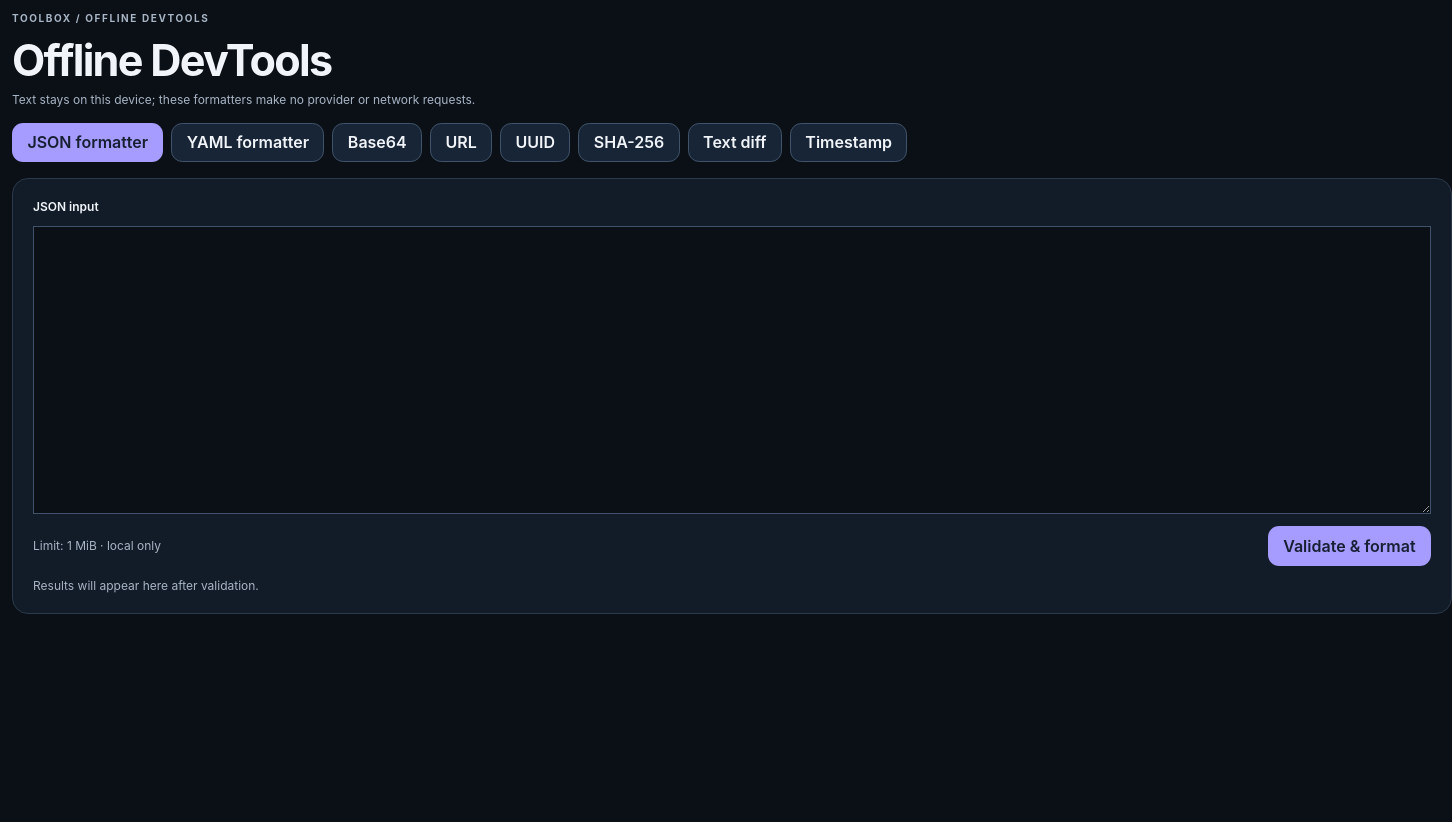
Scenario: M3-022 timestamp DevTools panel › shows a clear validation error for invalid input and supports ISO with an offset
Click the button "Timestamp": click(849, 142) [790,123,907,162]
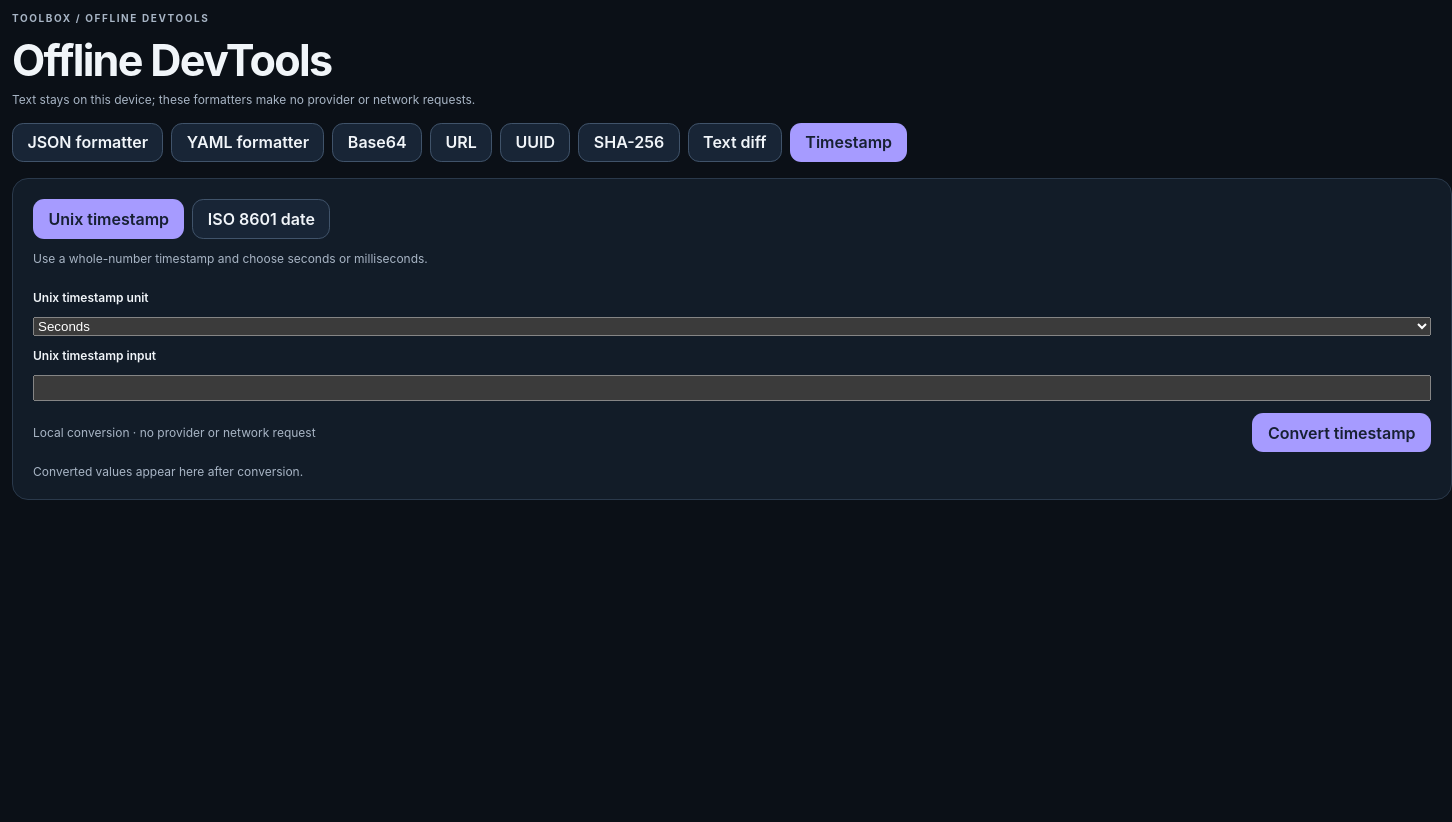
In the field labelled "Unix timestamp input": (732, 388) [33,375,1431,401], type "1.2"
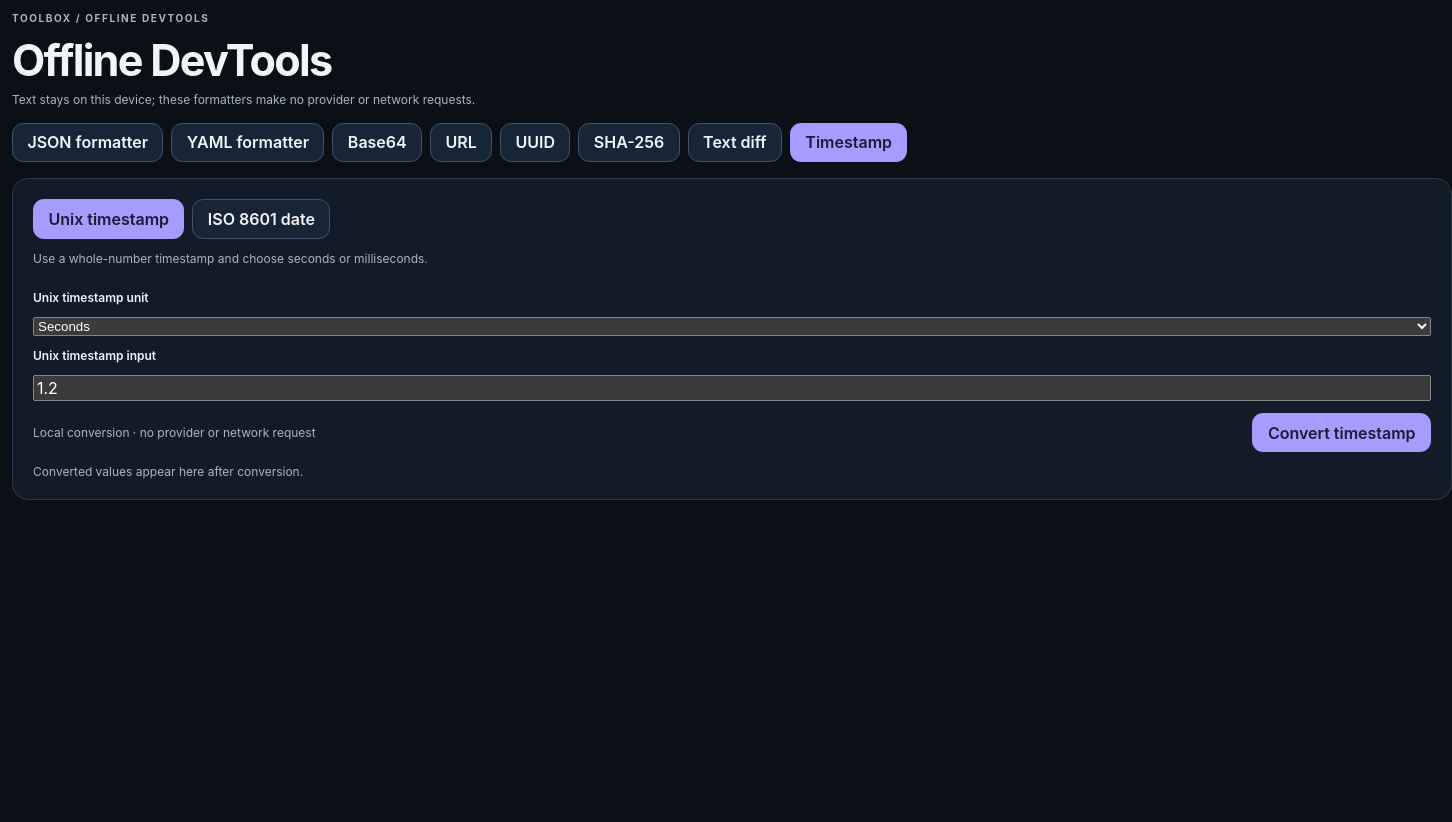
Click the button "Convert timestamp": click(1342, 433) [1252,413,1431,452]
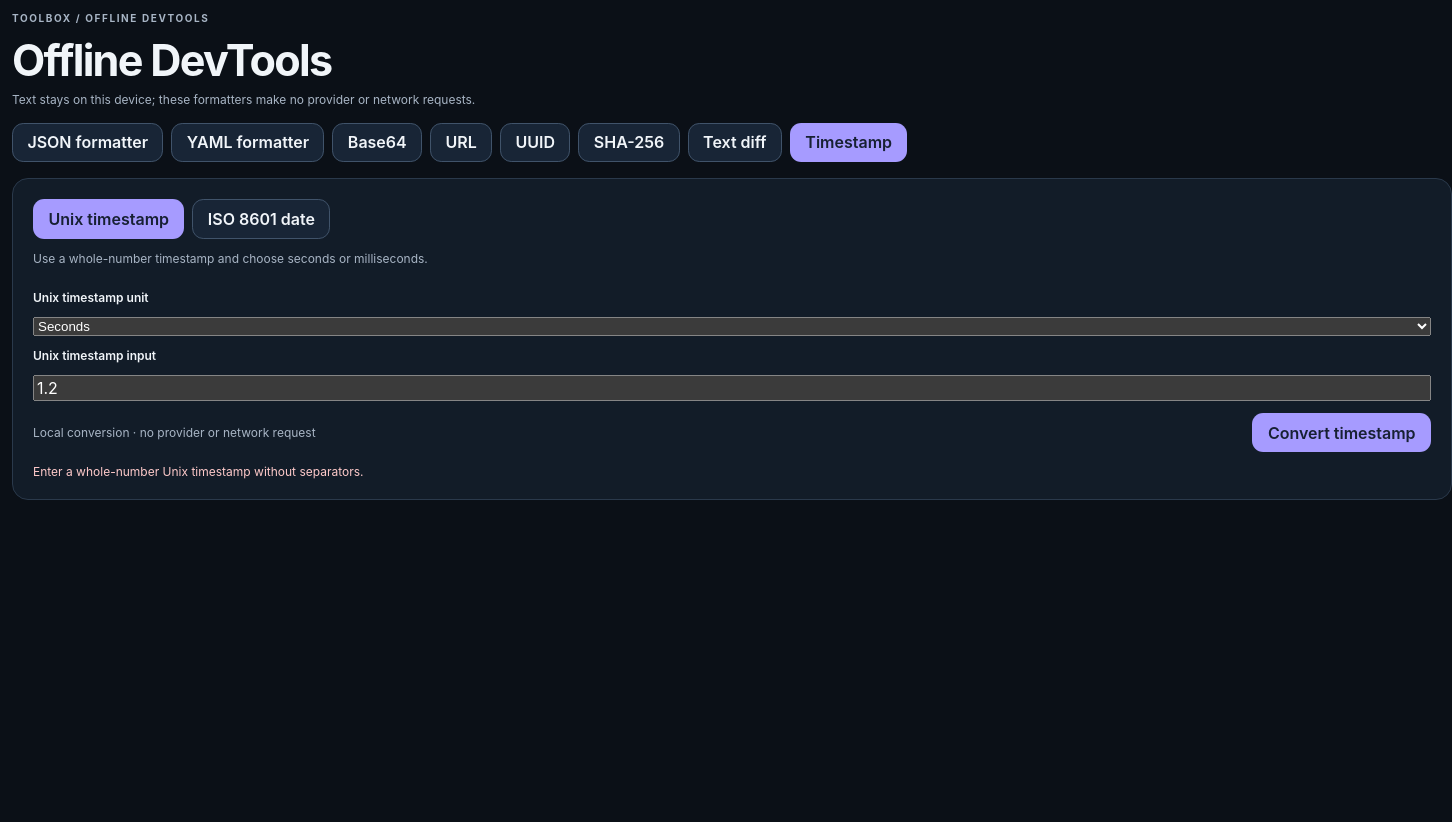
Expected: the message shows "whole-number Unix timestamp", [33,464,364,479]
Click the button "ISO 8601 date": click(261, 219) [192,199,330,239]
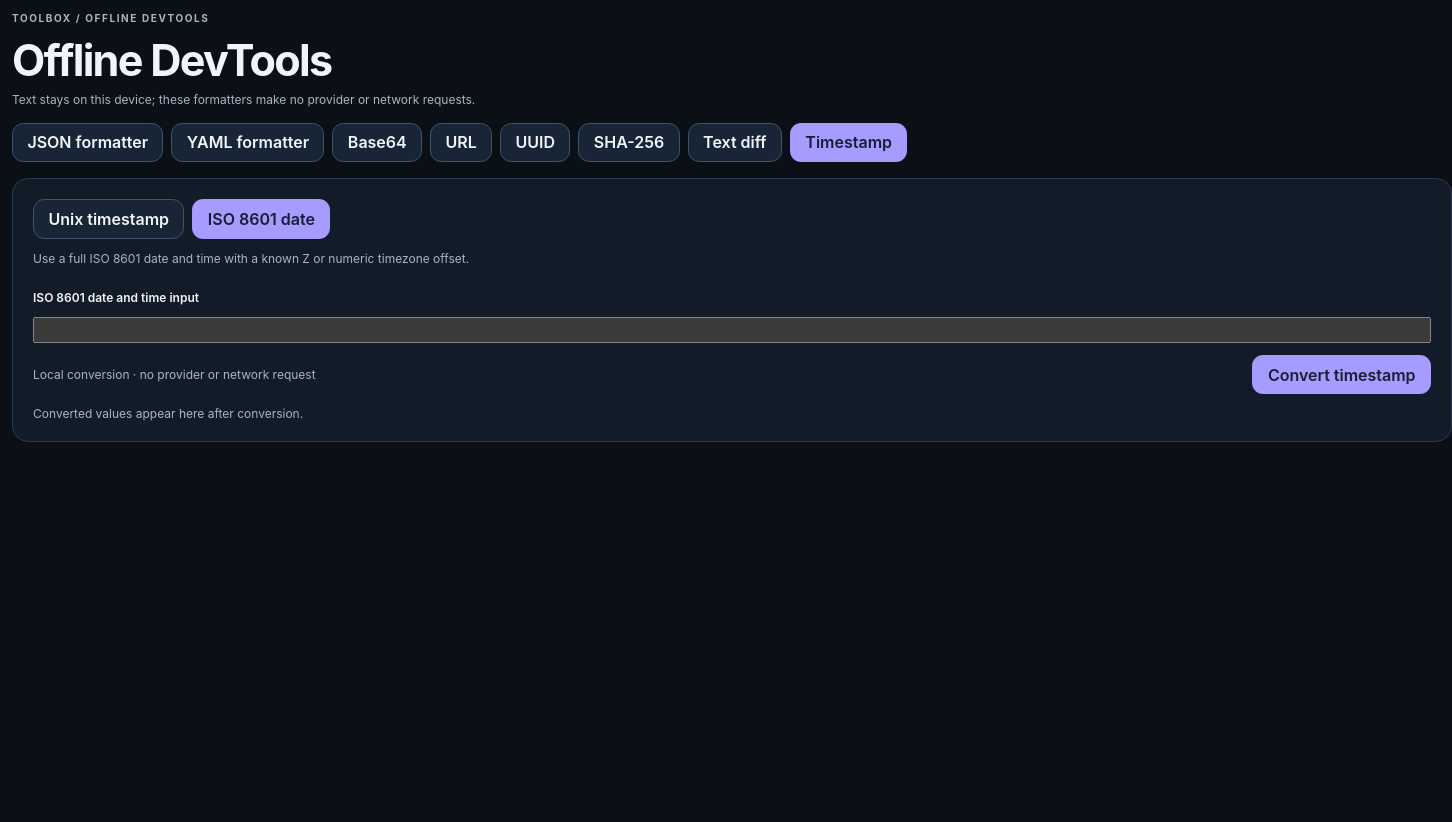
In the field labelled "ISO 8601 date and time input": (732, 330) [33,317,1431,343], type "1970-01-01T07:00:00+07:00"
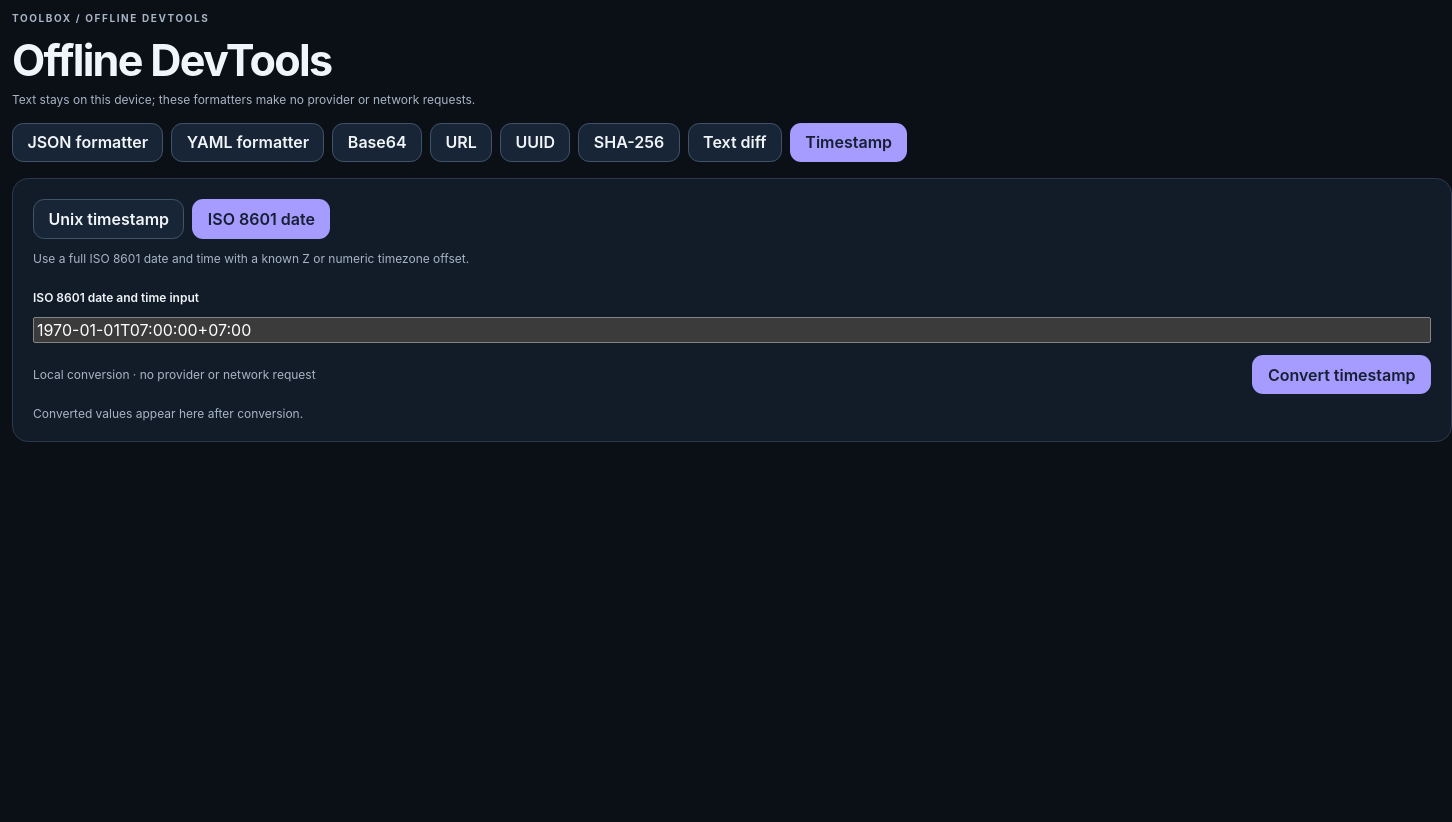
Click the button "Convert timestamp": click(1342, 375) [1252,355,1431,394]
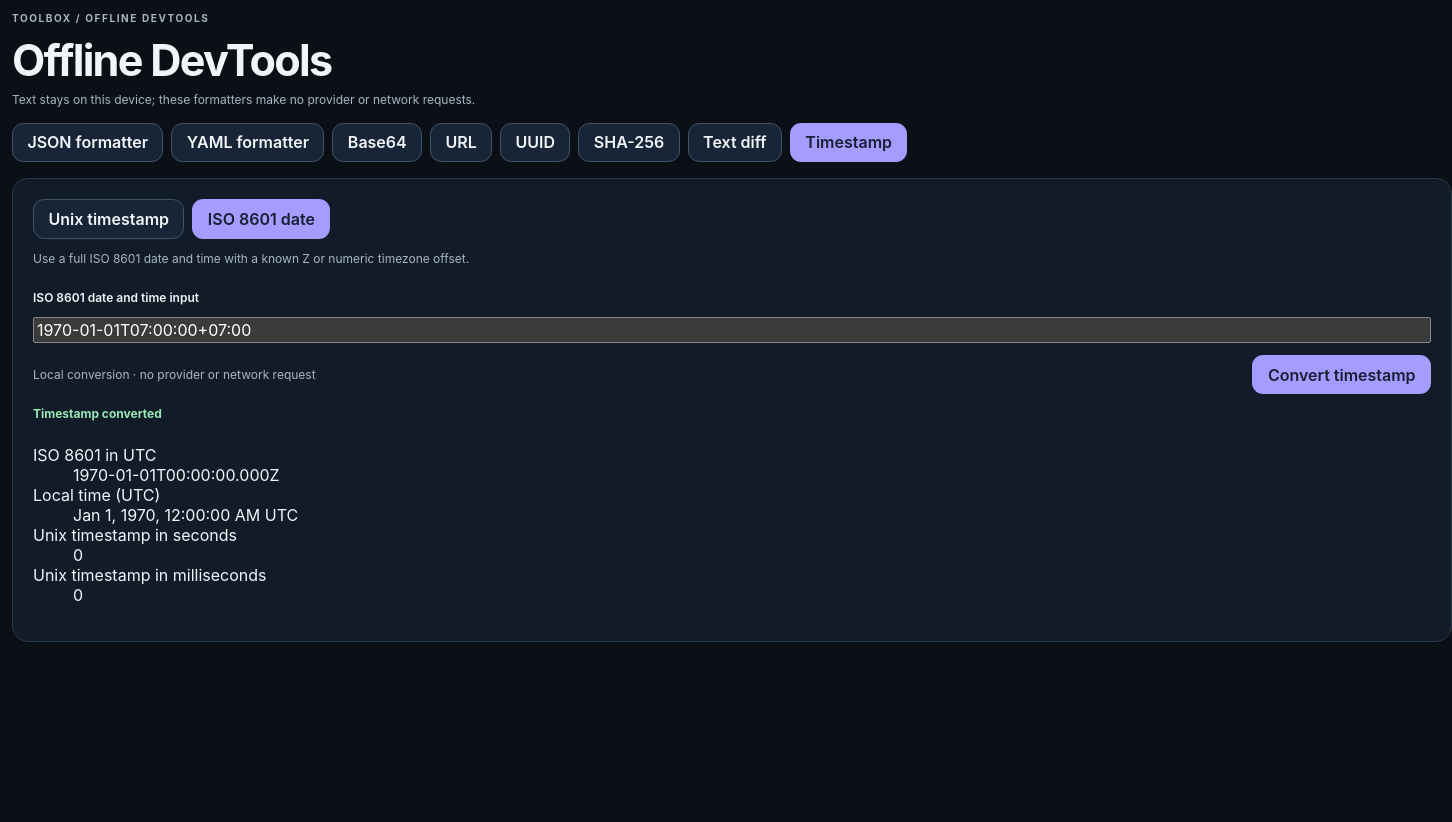
Expected: the text "1970-01-01T00:00:00.000Z" is shown, [73,465,280,485]
